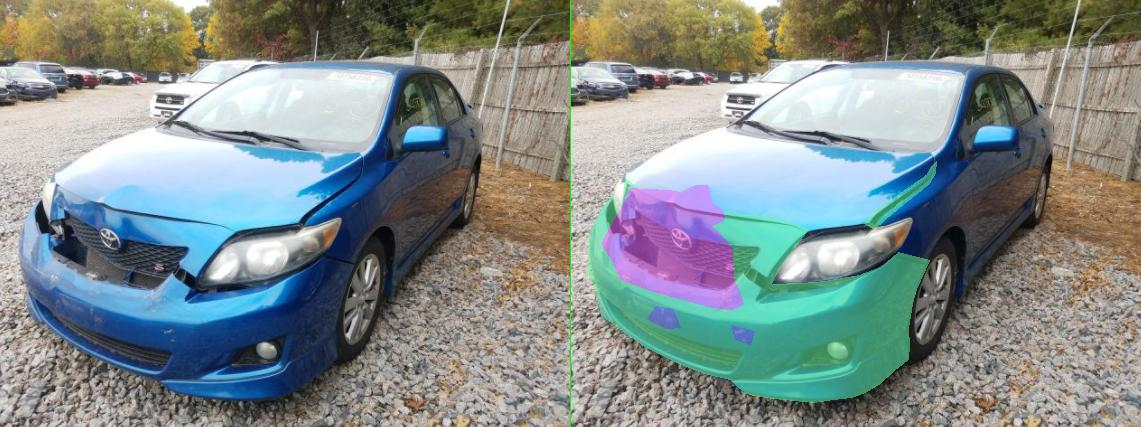Broken part: (32, 178, 717, 402), (587, 161, 731, 229)
Dent: (60, 185, 344, 309)
Scratch: (152, 306, 218, 328), (320, 325, 366, 344)
